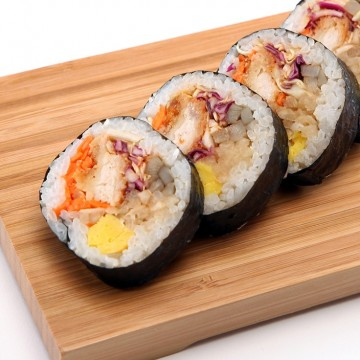gimbab: (37, 26, 360, 290)
